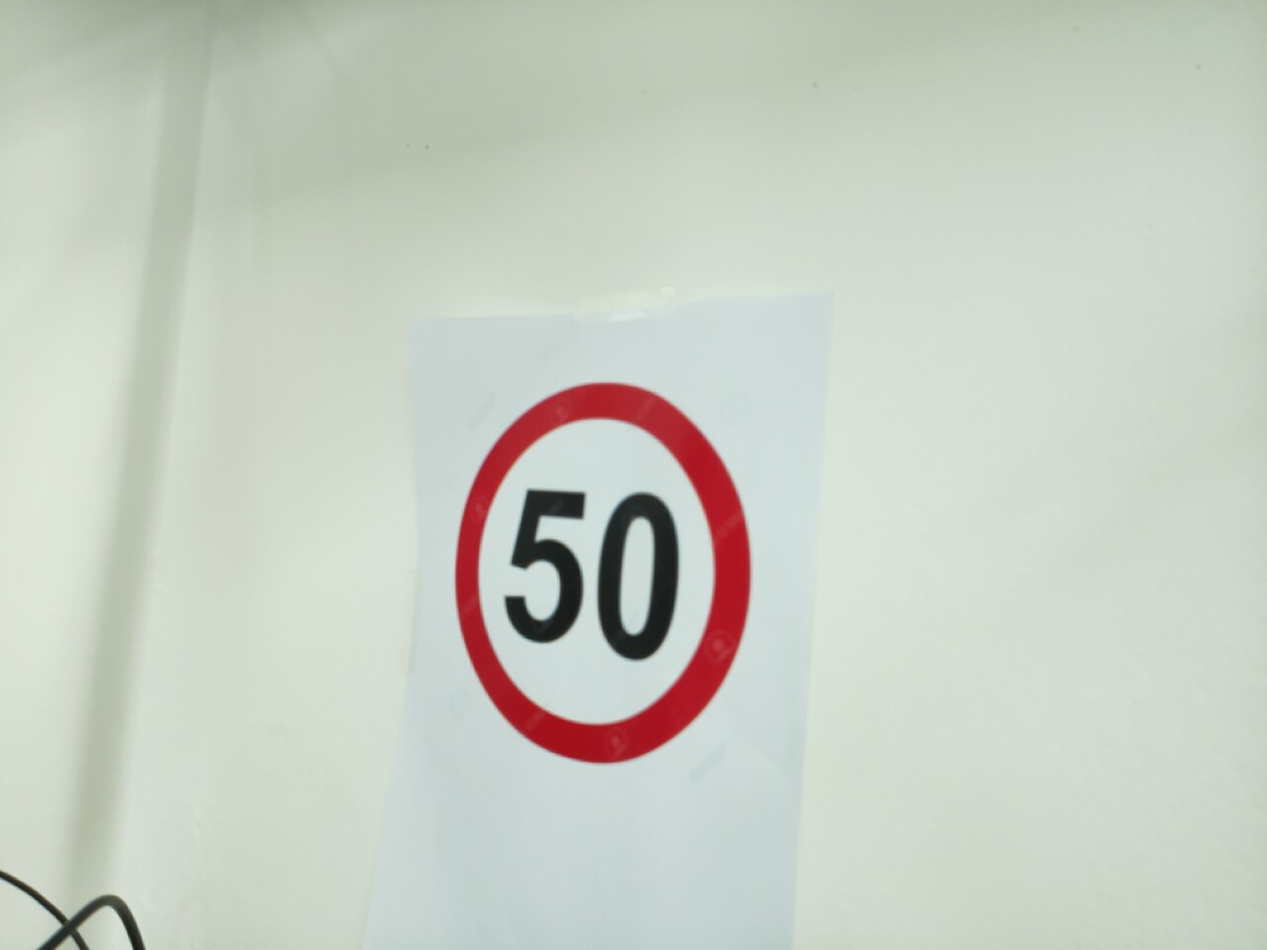speed_50: (445, 372, 760, 775)
